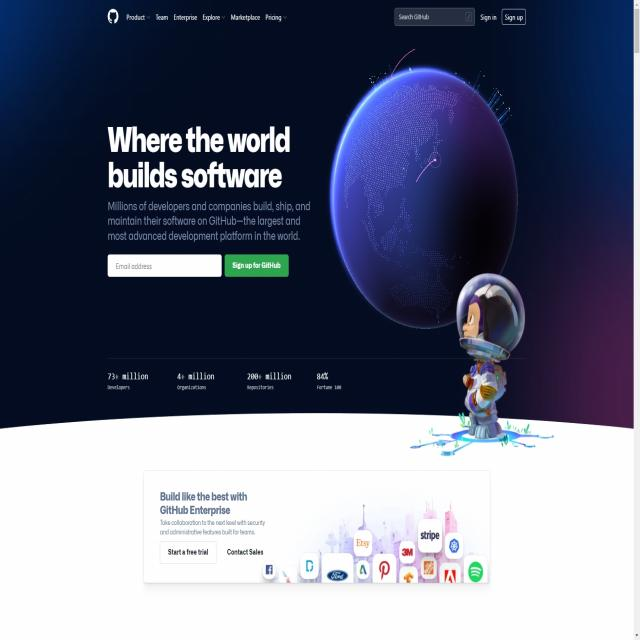menu-bar: (121, 5, 290, 28)
search: (394, 3, 476, 29)
